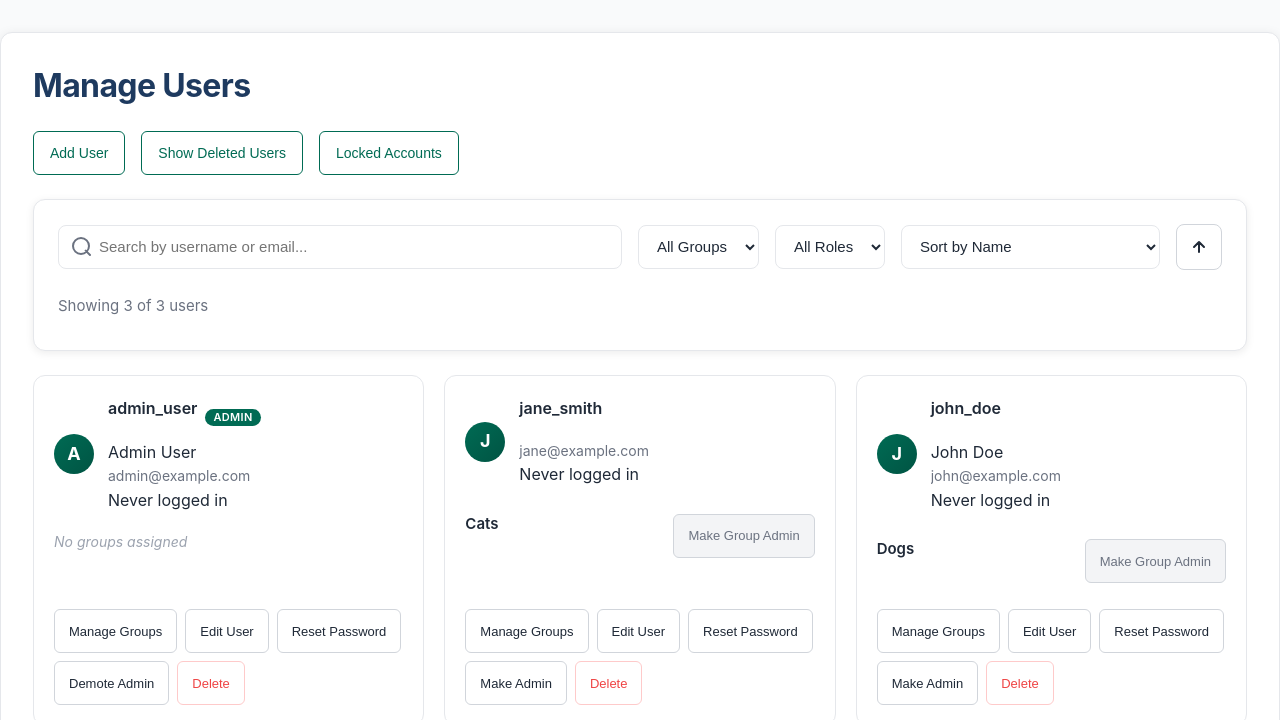
Test: UsersPage › Create User form — structure › opens the form when "Add User" is clicked
Click the button "Add User". click: coordinates (79, 153)
box: x1=33 y1=131 x2=125 y2=175
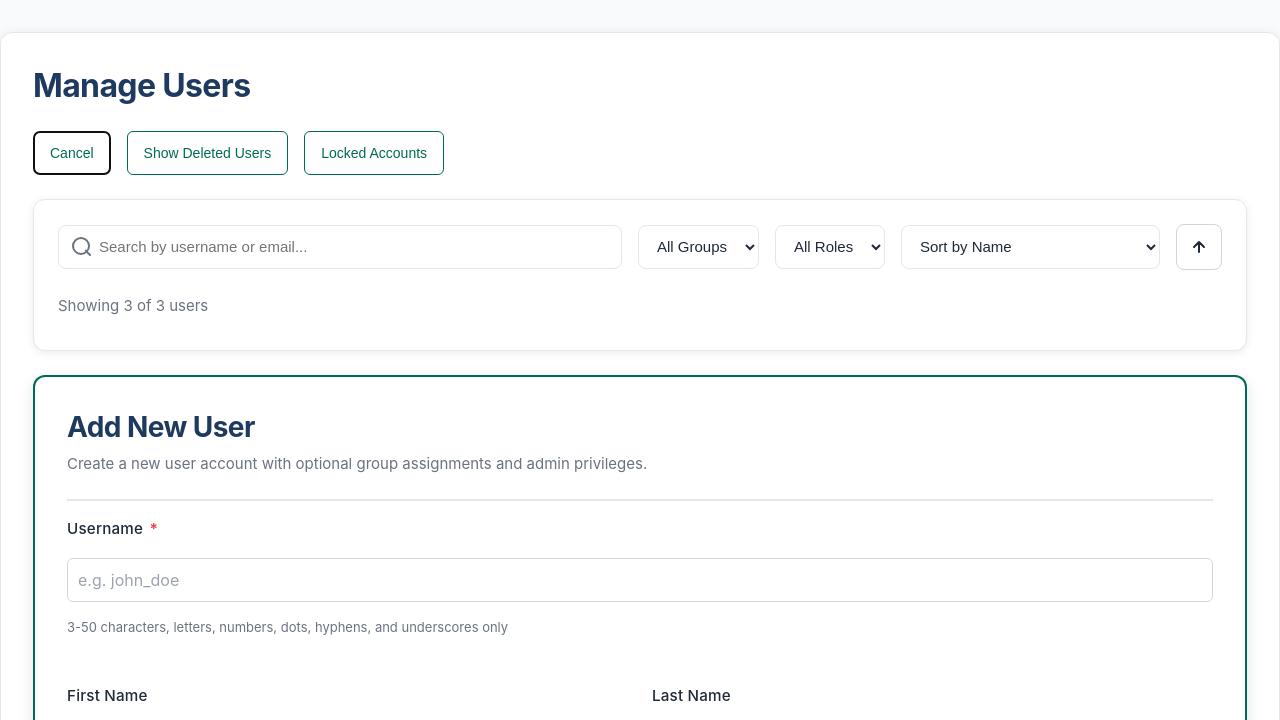
expect the heading "Add New User" is shown: met, box x1=67 y1=410 x2=255 y2=444
